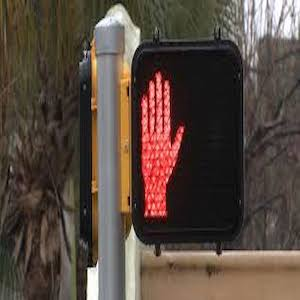red: (132, 66, 189, 227)
